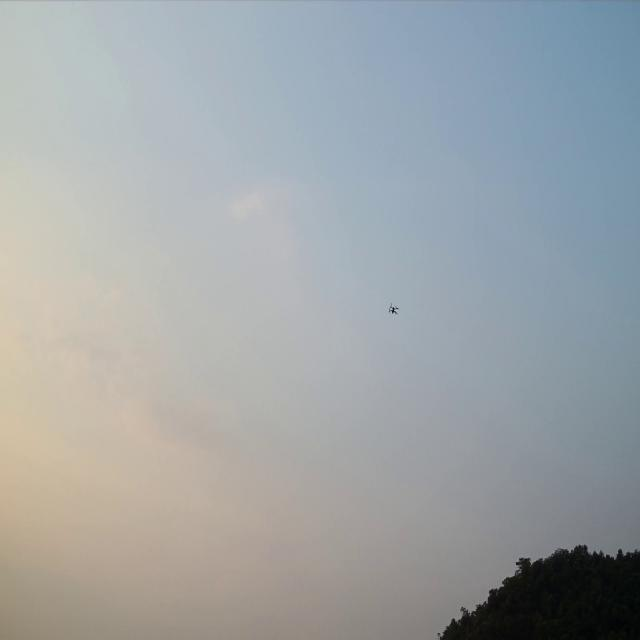UAV: (389, 302, 400, 316)
